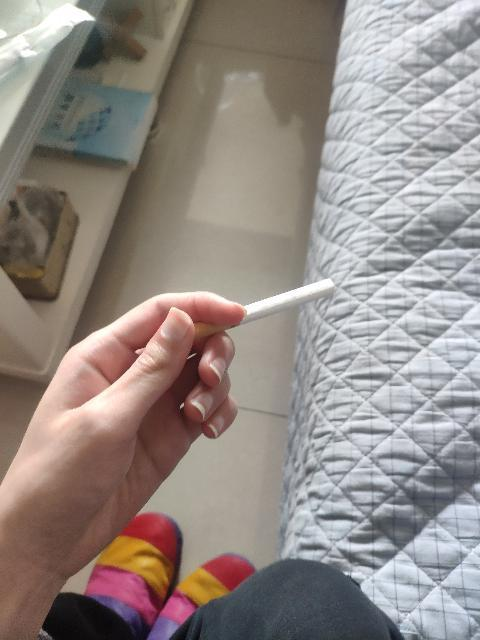Smoking: (185, 278, 337, 342)
